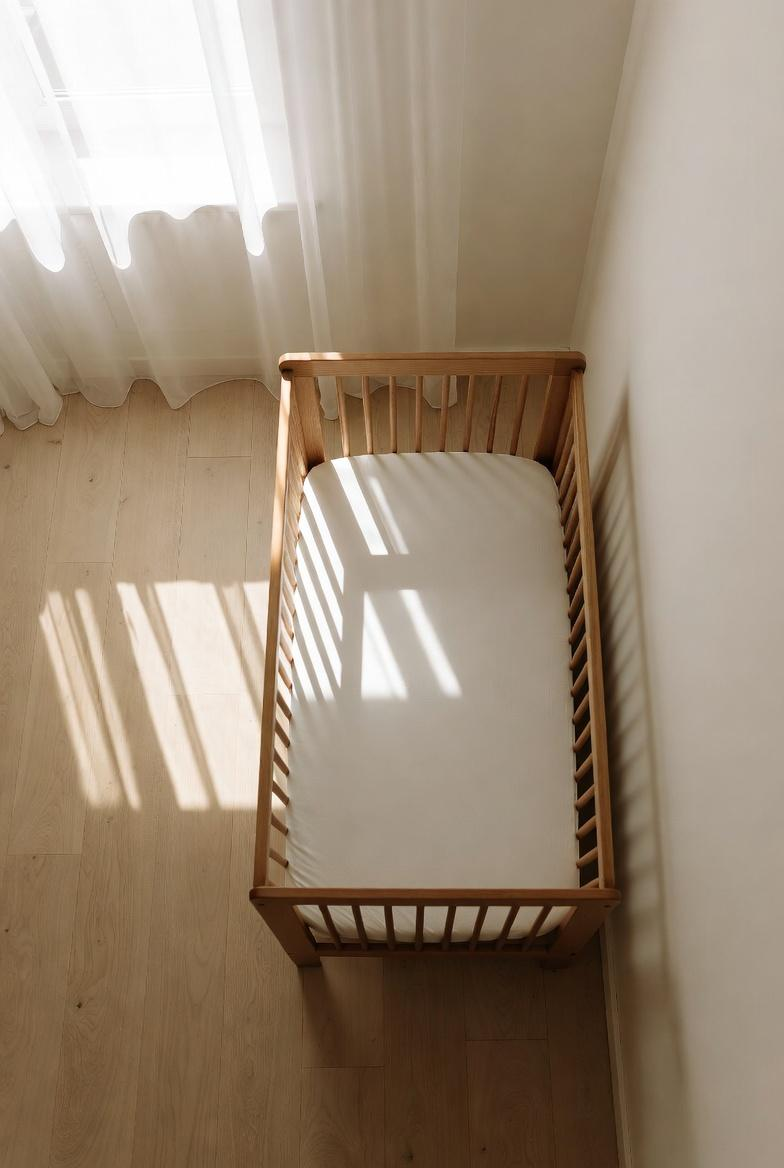crib: (250, 352, 620, 965)
